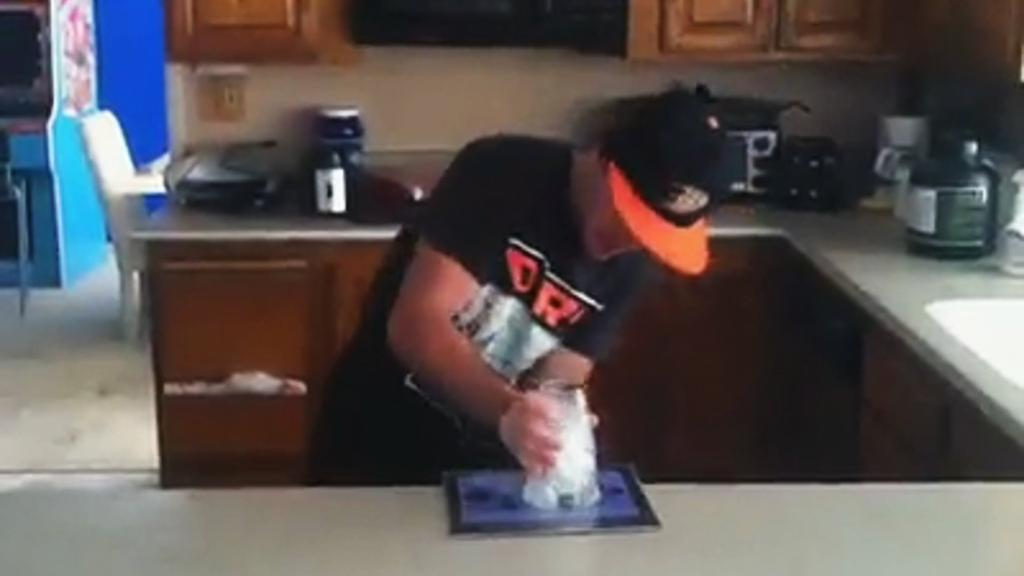face: (583, 163, 707, 265)
